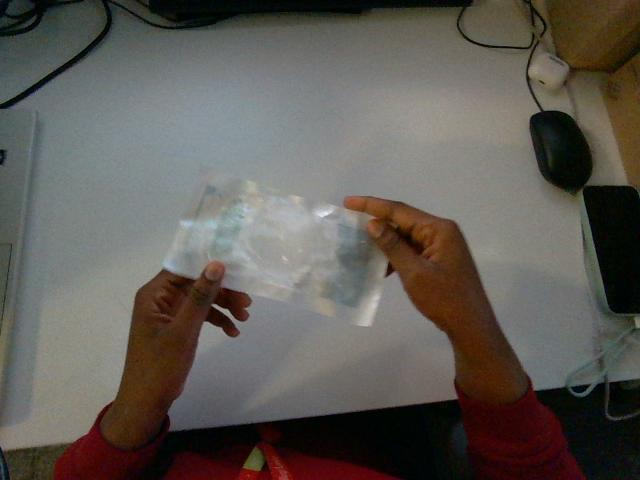gallipot: (164, 169, 386, 325)
